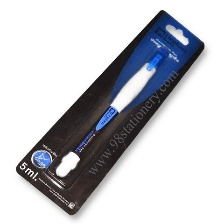correction_fluid: (47, 40, 172, 180)
